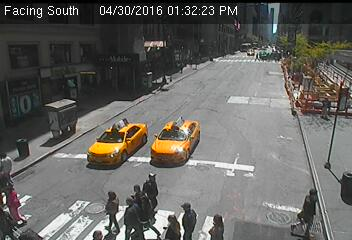neg: (152, 53, 182, 94), (48, 178, 73, 210), (204, 24, 224, 51), (44, 38, 64, 64), (231, 171, 250, 196), (215, 69, 234, 93), (335, 148, 351, 175), (281, 69, 298, 92), (216, 120, 233, 142), (97, 56, 114, 78), (140, 118, 156, 140), (317, 78, 333, 100), (34, 91, 50, 113), (183, 151, 199, 172), (290, 147, 306, 168), (54, 142, 67, 160), (276, 112, 288, 128), (187, 123, 198, 138), (282, 25, 293, 40), (82, 106, 92, 120), (125, 23, 135, 36), (109, 143, 116, 153), (301, 51, 307, 60)
pos: (130, 171, 170, 225), (292, 183, 329, 233), (121, 179, 156, 227), (97, 190, 127, 230), (116, 195, 144, 234), (173, 200, 202, 237), (160, 210, 180, 237), (207, 213, 225, 238), (253, 52, 261, 62), (93, 229, 100, 239)
